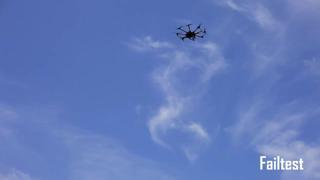UAV: (174, 24, 206, 41)
